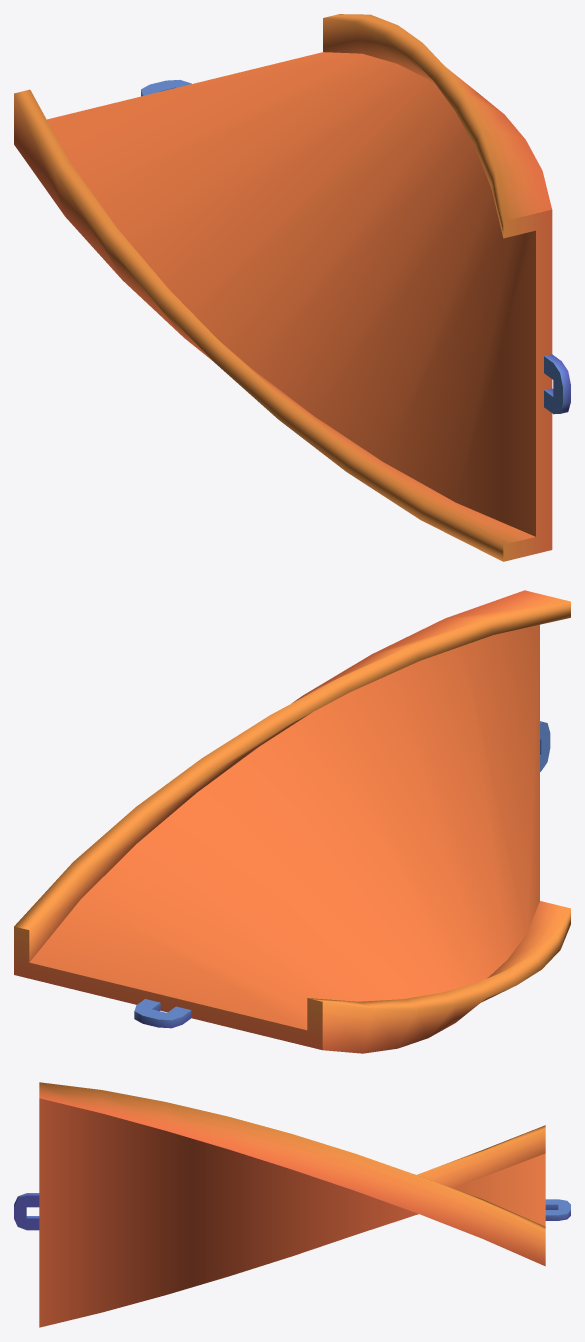
File: kenney-toy-car-track-wide-straight-skew-right-side.glb
3 renders of one model, top to bottom at view 1: azimuth 30°, elevation 25°; view 2: azimuth 150°, elevation 25°; view 3: azimuth 270°, elevation 25°, orthographic. The views are drawn at different scales.
Visible parts, largest first — view 1: track-wide-straight-skew-right-side; view 2: track-wide-straight-skew-right-side; view 3: track-wide-straight-skew-right-side.
Part boxes in pixels (x1,y1,x2,y2): track-wide-straight-skew-right-side: [14, 14, 570, 561]; track-wide-straight-skew-right-side: [14, 590, 570, 1053]; track-wide-straight-skew-right-side: [14, 1082, 570, 1327].
Bounding box in the file's own units: 2.04 × 2.04 × 4.4.
1 material, 1 textured.
